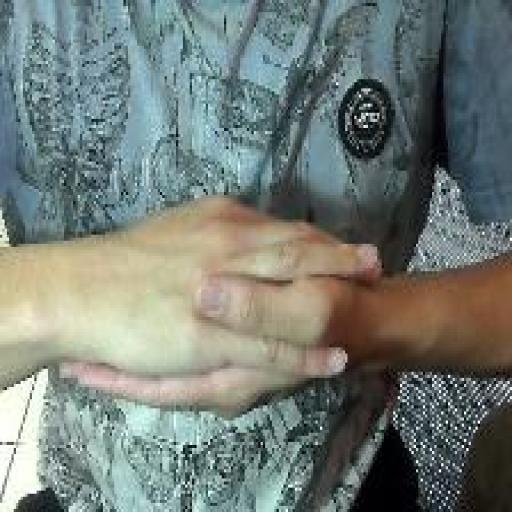Saru -monkey-: (55, 186, 386, 430)
